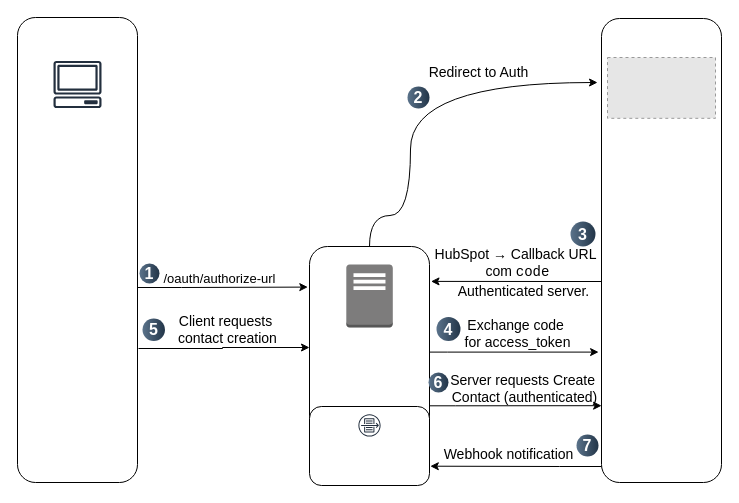
This 739x503 diagram has some shape labels left out. Grey dashed boxes stand in for pictures. Here are the shapes that lost their labels. From the top down, the centre of each, then its label:
point 77,84: Client
point 369,296: Server
point 369,424: Flow logs
